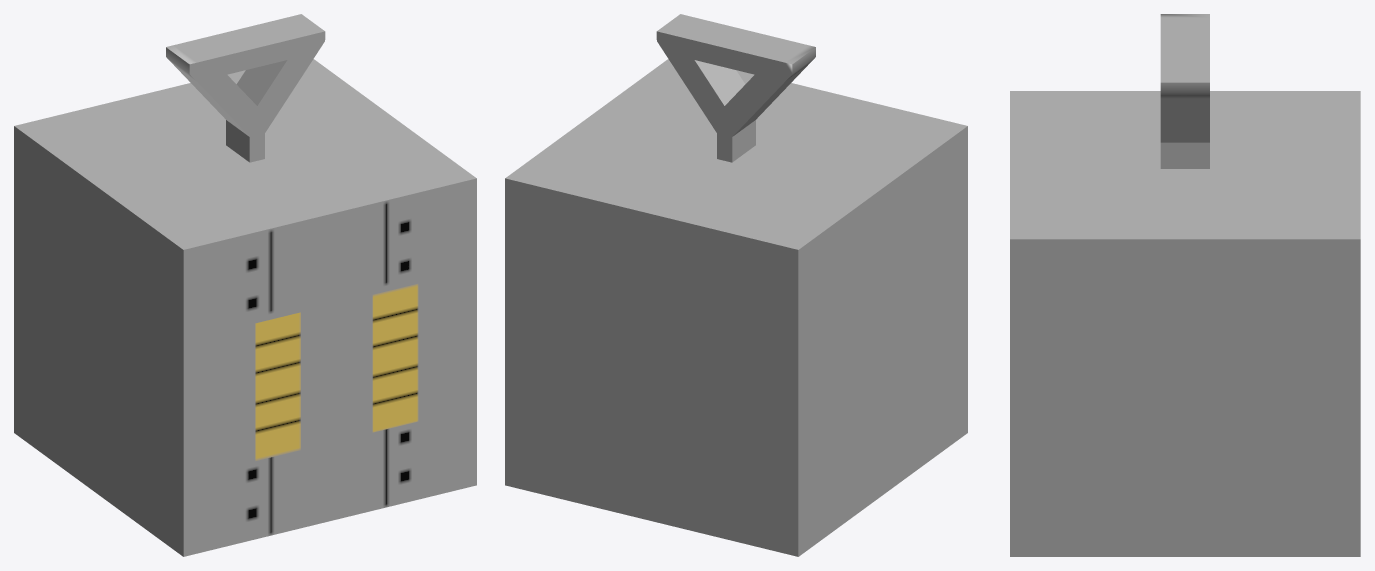
Rendered from antena.glb.
3 views of the same model, side by side, from view 1: azimuth 30°, elevation 25°; view 2: azimuth 150°, elevation 25°; view 3: azimuth 270°, elevation 25° (orthographic). The views are drawn at different scales.
Visible parts, largest first — view 1: pCube1, pPlane8, pPlane2, pPlane1; view 2: pCube1, pPlane8; view 3: pCube1, pPlane8.
Part boxes in pixels (x1,y1,x2,y2): pCube1: [14, 59, 476, 556]; pPlane8: [166, 14, 325, 162]; pPlane2: [372, 284, 418, 432]; pPlane1: [255, 312, 300, 460]; pCube1: [505, 59, 967, 556]; pPlane8: [656, 14, 815, 162]; pCube1: [1010, 91, 1360, 556]; pPlane8: [1160, 14, 1209, 168].
Size of the model in its own units: 0.05 by 0.0684 by 0.0519.
Materials: 1 (1 with a texture image).
